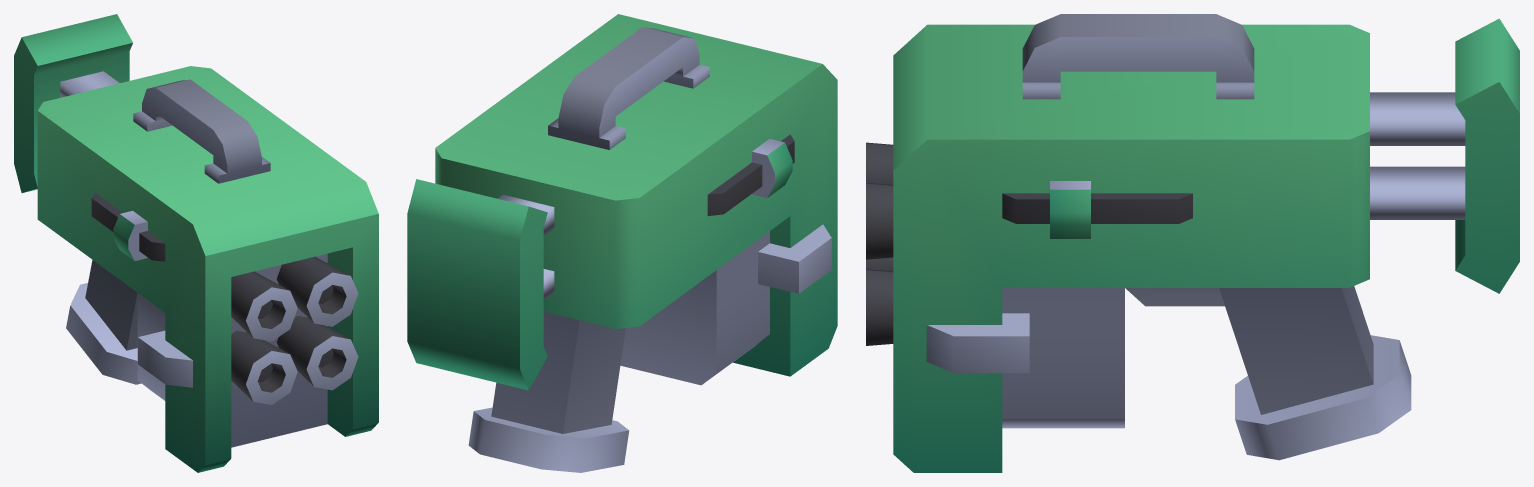
The model's file is weapon_firework.glb.
The picture shows the model from 3 angles, left to right: view 1: azimuth 30°, elevation 25°; view 2: azimuth 150°, elevation 25°; view 3: azimuth 270°, elevation 25°; orthographic projection. The views are drawn at different scales.
Visible parts, largest first — view 1: blaster-o; view 2: blaster-o; view 3: blaster-o.
Part boxes in pixels (x1,y1,x2,y2): blaster-o: (14, 14, 378, 472); blaster-o: (407, 14, 837, 472); blaster-o: (866, 14, 1519, 472).
Bounding box in the file's own units: 17.35 × 23.64 × 34.
